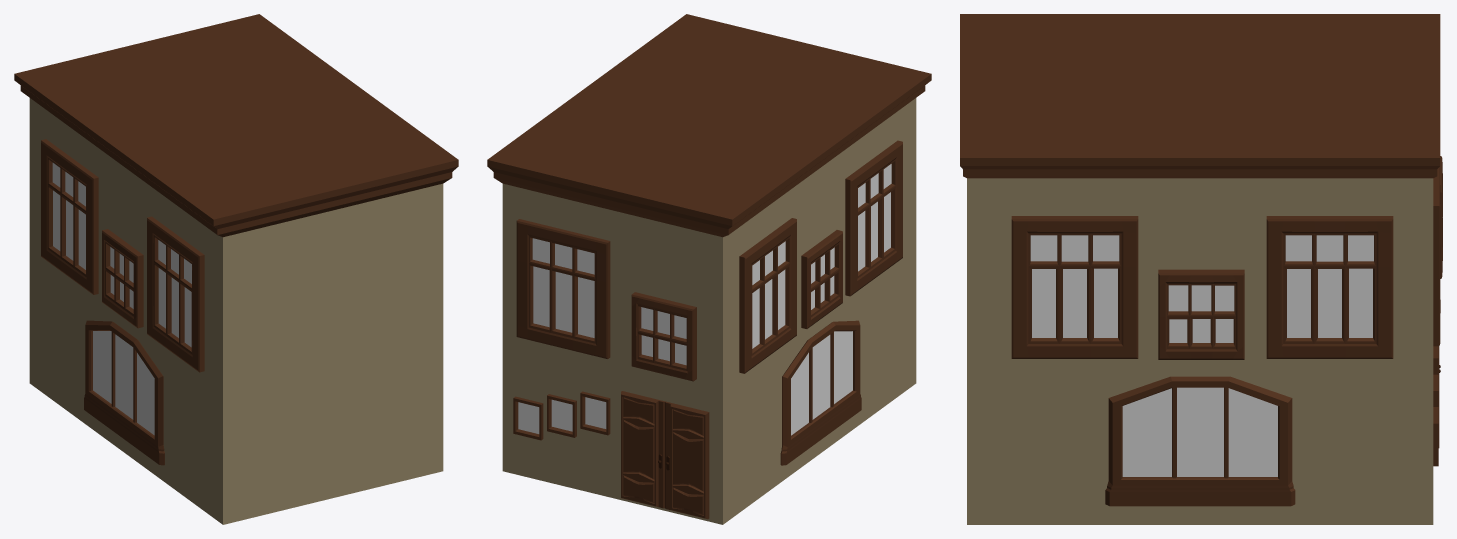
Rendered from MediumbuildingA_model.fbx.
3 views of the same model, side by side, from view 1: azimuth 30°, elevation 25°; view 2: azimuth 150°, elevation 25°; view 3: azimuth 270°, elevation 25° (orthographic). The views are drawn at different scales.
Visible parts, largest first — view 1: MediumbuildingA_model; view 2: MediumbuildingA_model; view 3: MediumbuildingA_model.
Boxes of the visible parts, box(x1,y1,x2,y2) form: MediumbuildingA_model: box(14, 14, 458, 524); MediumbuildingA_model: box(487, 14, 931, 524); MediumbuildingA_model: box(960, 14, 1442, 524).
Bounding box in the file's own units: 568 × 804 × 687.
